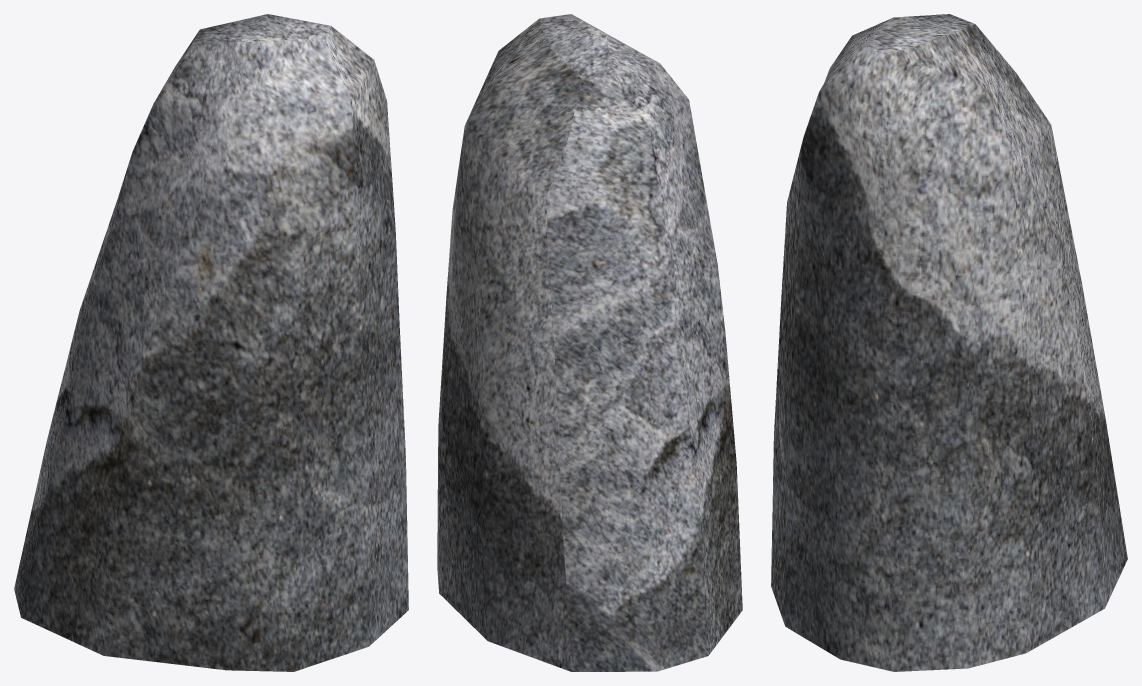
File: Menir.fbx
The picture shows the model from 3 angles, left to right: view 1: azimuth 30°, elevation 25°; view 2: azimuth 150°, elevation 25°; view 3: azimuth 270°, elevation 25°; orthographic projection. The views are drawn at different scales.
Visible parts, largest first — view 1: Menir_High1; view 2: Menir_High1; view 3: Menir_High1.
Part boxes in pixels (bbox=[...]): Menir_High1: bbox=[14, 14, 408, 671]; Menir_High1: bbox=[437, 14, 742, 671]; Menir_High1: bbox=[771, 14, 1127, 671].
Bounding box in the file's own units: 213 × 364 × 203.
Materials: 1 (1 with a texture image).
